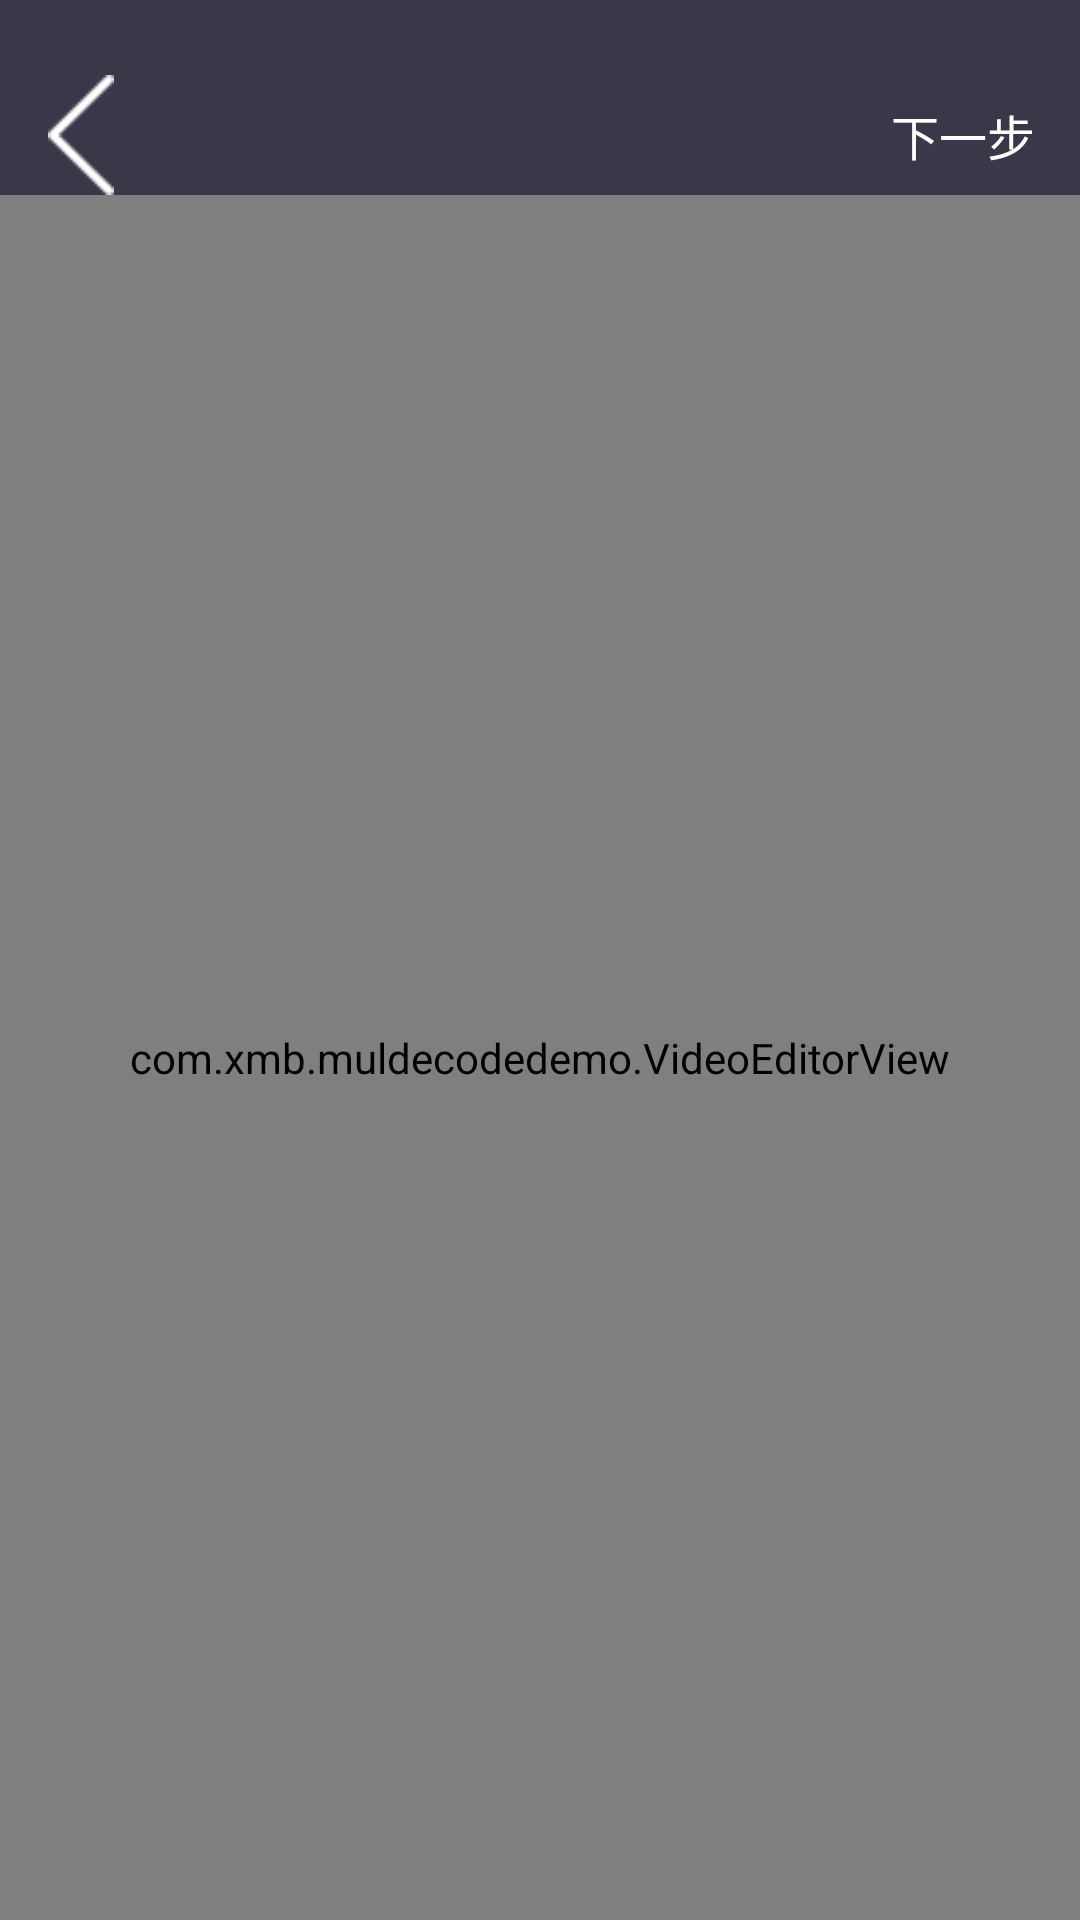

Locate icon controls on the screen. Image size 1080w x 1920h, boxes as detection(x1, y1, x2, y2).
back: detection(48, 75, 114, 195)
